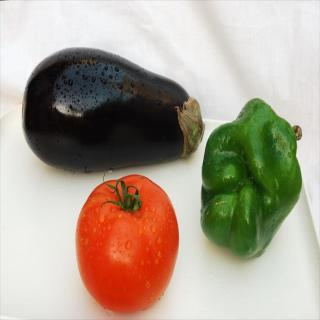tomato: (72, 171, 183, 318)
